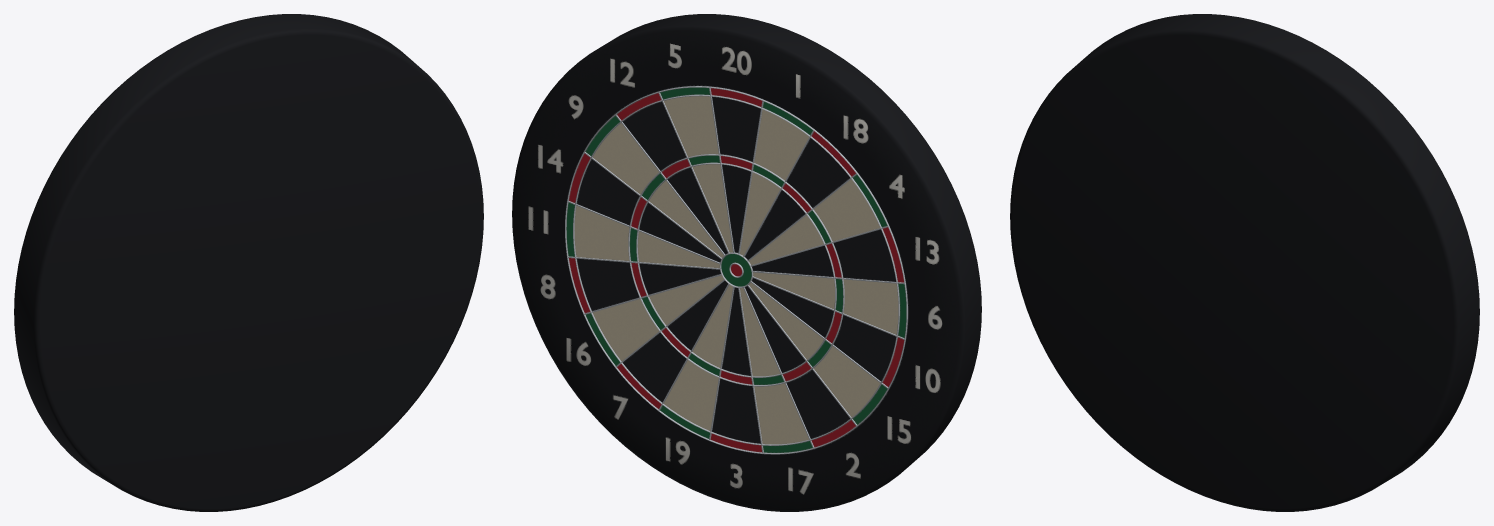
File: Dartboard.fbx
3 renders of one model, left to right at view 1: azimuth 30°, elevation 25°; view 2: azimuth 150°, elevation 25°; view 3: azimuth 330°, elevation 25°, orthographic.
Visible parts, largest first — view 1: Dartboard; view 2: Dartboard; view 3: Dartboard.
Part boxes in pixels (bbox=[...]): Dartboard: bbox=[14, 14, 483, 511]; Dartboard: bbox=[512, 14, 981, 511]; Dartboard: bbox=[1010, 14, 1479, 511].
Size of the model in its own units: 0.4508 by 0.4508 by 0.0392.
